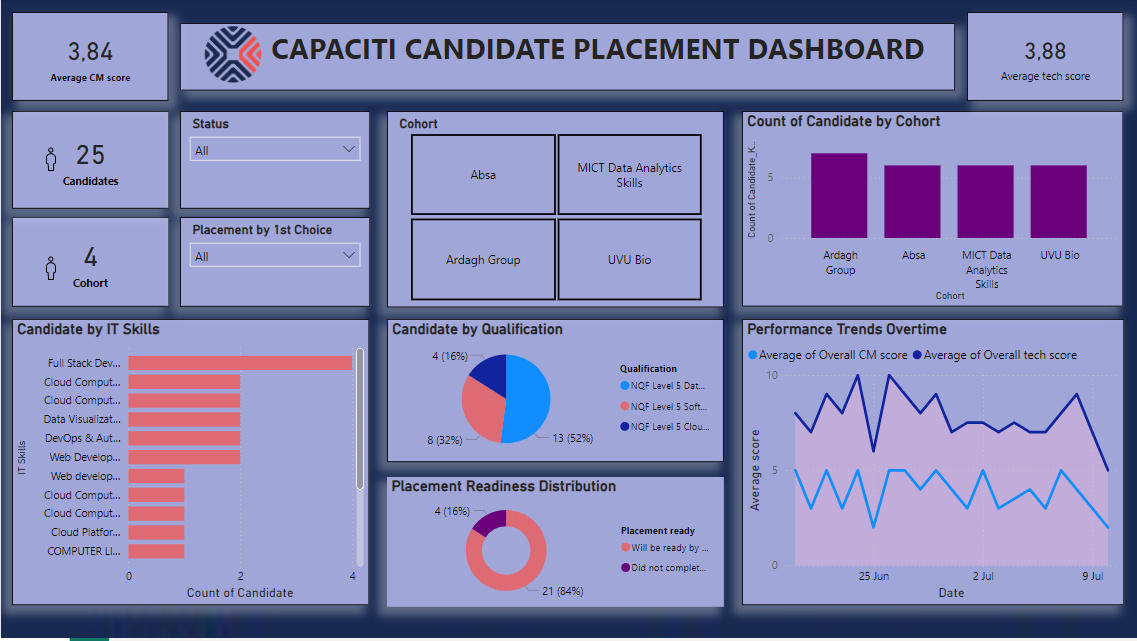

Layout of this report page (visuals, bound fields, positions):
{"tool":"powerbi","page":{"name":"Dashboard","canvas":[1280,720],"ordinal":0},"visuals":[{"type":"barChart","title":"Candidate by IT Skills","fields":{"Category":["Skills_Dimension.Candidate IT Skills"],"Y":["CountNonNull(Skills_Dimension.Candidate_Key)"]},"box":[12.4,361.1,401.6,321.8],"z":0},{"type":"donutChart","title":"Placement Readiness Distribution","fields":{"Category":["Fact_Candidates_Table.Placement ready"],"Y":["CountNonNull(Fact_Candidates_Table.Candidate_Key)"]},"box":[434.2,538.9,379.1,146.2],"z":1000},{"type":"stackedAreaChart","title":"Performance Trends Overtime","fields":{"Category":["Fact_Candidates_Table.Last Updated"],"Y":["Avg(Fact_Candidates_Table.Overall CM score)","Avg(Fact_Candidates_Table.Overall tech score)"]},"box":[833.6,361.1,429.8,321.8],"z":2000},{"type":"card","fields":{"Values":["Count(Fact_Candidates_Table.Cohort)"]},"box":[12.4,246.4,176.6,101.2],"z":3000},{"type":"card","fields":{"Values":["Count(Candidate_Info_Dimension.Candidate_Key)"]},"box":[12.4,127.1,176.6,110.2],"z":4000},{"type":"slicer","fields":{"Values":["Fact_Candidates_Table.Status"]},"box":[201.4,127.1,213.8,110.2],"z":5000},{"type":"columnChart","title":"Count of Candidate by Cohort","fields":{"Y":["CountNonNull(Fact_Candidates_Table.Candidate_Key)"],"Category":["Fact_Candidates_Table.Cohort"]},"box":[833.9,127.6,429.5,219.9],"z":6000},{"type":"slicer","fields":{"Values":["Choices_Dimension.1st Choice"]},"box":[201.4,246.4,213.8,101.2],"z":7000},{"type":"pieChart","title":"Candidate by Qualification","fields":{"Category":["Fact_Candidates_Table.Qualification"],"Y":["CountNonNull(Fact_Candidates_Table.Candidate_Key)"]},"box":[434.2,361.1,379.1,160.9],"z":8000},{"type":"slicer","fields":{"Values":["Fact_Candidates_Table.Cohort"]},"box":[434.2,127.1,379.1,220.5],"z":9000},{"type":"textbox","box":[201.7,28.6,872.1,75.6],"z":10000},{"type":"image","box":[221.2,24.1,77.9,80.2],"z":11000},{"type":"image","box":[32.6,162,46.1,39.4],"z":12000},{"type":"image","box":[32.6,284.6,46.1,39.4],"z":13000},{"type":"card","fields":{"Values":["Avg(Fact_Candidates_Table.Overall CM score)"]},"box":[12.6,16,176.5,99.7],"z":14000},{"type":"card","fields":{"Values":["Avg(Fact_Candidates_Table.Overall tech score)"]},"box":[1086.3,16,176.5,99.7],"z":15000}]}

Visuals, with their boxes in screenshot pixels (x1, y1, x2, y2), scaled from the page's 1280x720 canvas onto the 1137x641 screenshot:
"Candidate by IT Skills" barChart: region(11, 321, 368, 608)
"Placement Readiness Distribution" donutChart: region(386, 480, 722, 610)
"Performance Trends Overtime" stackedAreaChart: region(740, 321, 1122, 608)
card - Count(Fact_Candidates_Table.Cohort): region(11, 219, 168, 309)
card - Count(Candidate_Info_Dimension.Candidate_Key): region(11, 113, 168, 211)
slicer - Fact_Candidates_Table.Status: region(179, 113, 369, 211)
"Count of Candidate by Cohort" columnChart: region(741, 114, 1122, 309)
slicer - Choices_Dimension.1st Choice: region(179, 219, 369, 309)
"Candidate by Qualification" pieChart: region(386, 321, 722, 465)
slicer - Fact_Candidates_Table.Cohort: region(386, 113, 722, 309)
textbox: region(179, 25, 954, 93)
image: region(196, 21, 266, 93)
image: region(29, 144, 70, 179)
image: region(29, 253, 70, 288)
card - Avg(Fact_Candidates_Table.Overall CM score): region(11, 14, 168, 103)
card - Avg(Fact_Candidates_Table.Overall tech score): region(965, 14, 1122, 103)
